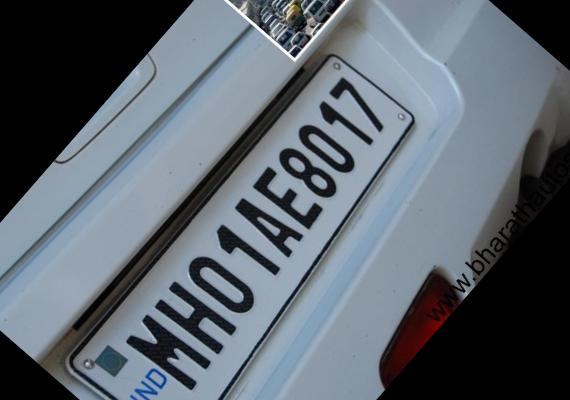plate: (48, 1, 476, 400)
